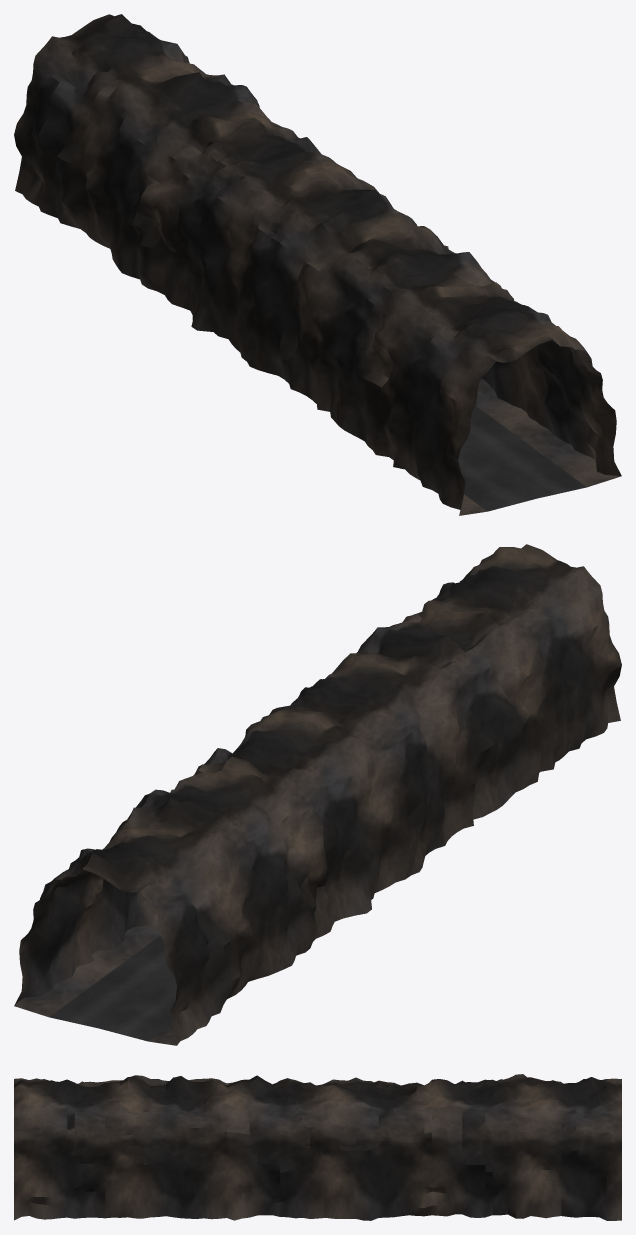
The model's file is TunnelStraight.fbx.
The picture shows the model from 3 angles, top to bottom: view 1: azimuth 30°, elevation 25°; view 2: azimuth 150°, elevation 25°; view 3: azimuth 270°, elevation 25°; orthographic projection. The views are drawn at different scales.
Visible parts, largest first — view 1: TunnelStraight; view 2: TunnelStraight; view 3: TunnelStraight.
Part boxes in pixels (x1=…): TunnelStraight: x1=14, y1=14, x2=621, y2=515; TunnelStraight: x1=14, y1=544, x2=621, y2=1045; TunnelStraight: x1=14, y1=1074, x2=621, y2=1220.
Size of the model in its own units: 5.33 by 4.9 by 24.
Materials: 2 (2 with a texture image).
